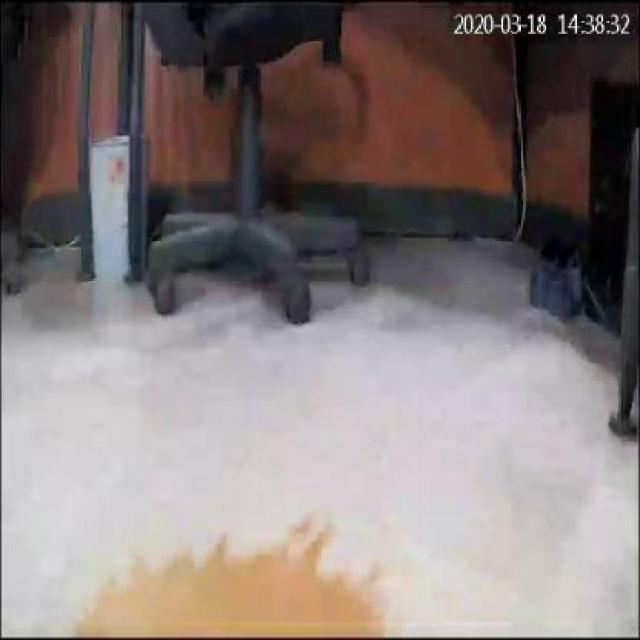spill: (74, 522, 402, 638)
